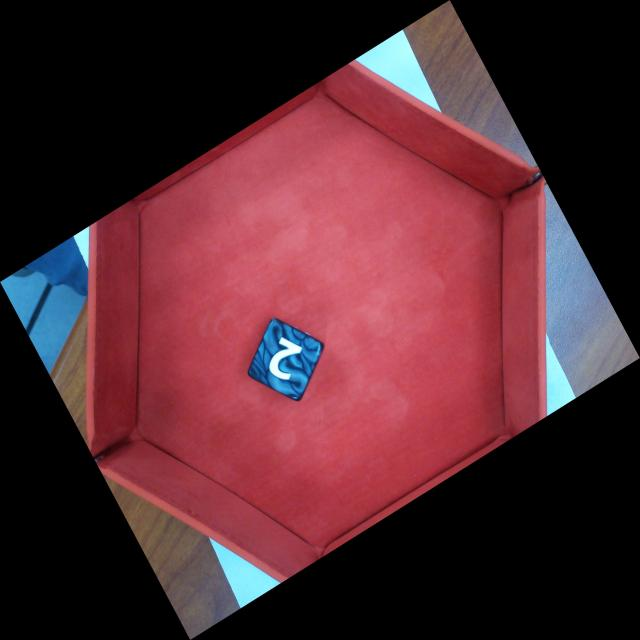dice: (251, 318, 324, 401)
